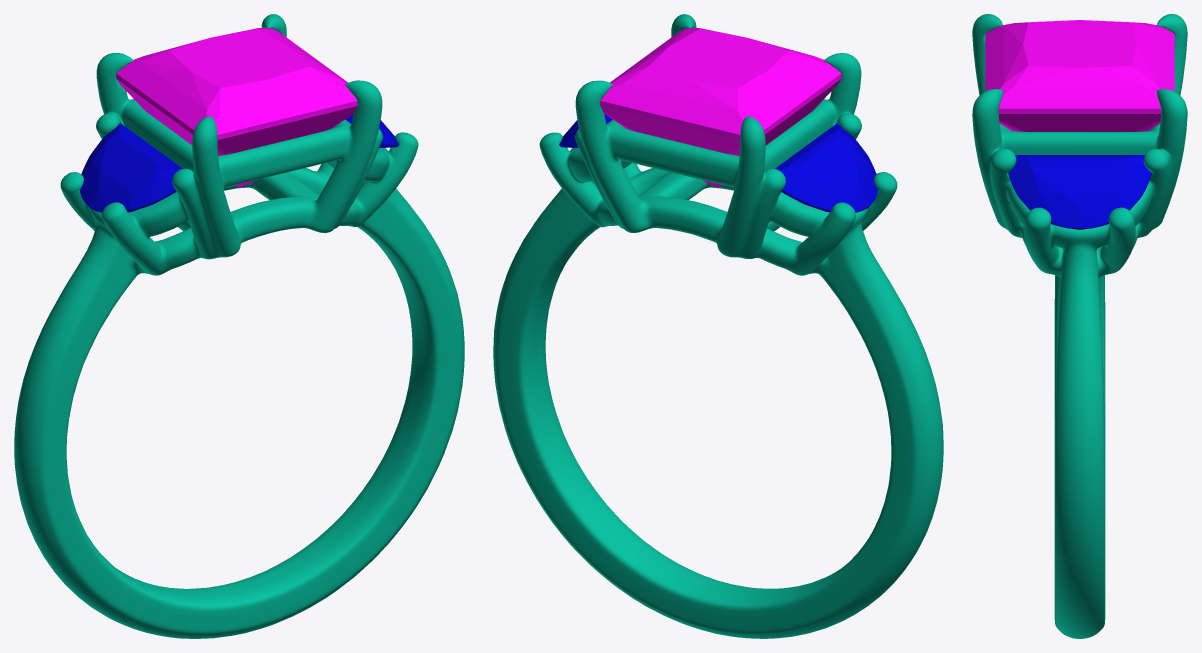
The model's file is BE1D354_PR_200ct_RENDER.glb.
3 renders of one model, left to right at view 1: azimuth 30°, elevation 25°; view 2: azimuth 150°, elevation 25°; view 3: azimuth 270°, elevation 25°, orthographic.
Visible parts, largest first — view 1: Metal 01, CS_Diamond_Princess, Diamond_Marquise_side.001; view 2: Metal 01, CS_Diamond_Princess, Diamond_Marquise_side.001; view 3: Metal 01, CS_Diamond_Princess, Diamond_Marquise_side.
Boxes of the visible parts, x1,y1,x2,y2 form: Metal 01: (14,14,464,638); CS_Diamond_Princess: (116,28,357,187); Diamond_Marquise_side.001: (79,123,182,212); Metal 01: (493,14,943,638); CS_Diamond_Princess: (600,28,841,187); Diamond_Marquise_side.001: (775,123,877,212); Metal 01: (972,14,1187,638); CS_Diamond_Princess: (985,20,1174,131); Diamond_Marquise_side: (1008,155,1151,229).
Bounding box in the file's own units: 20.17 × 24.92 × 8.51.
